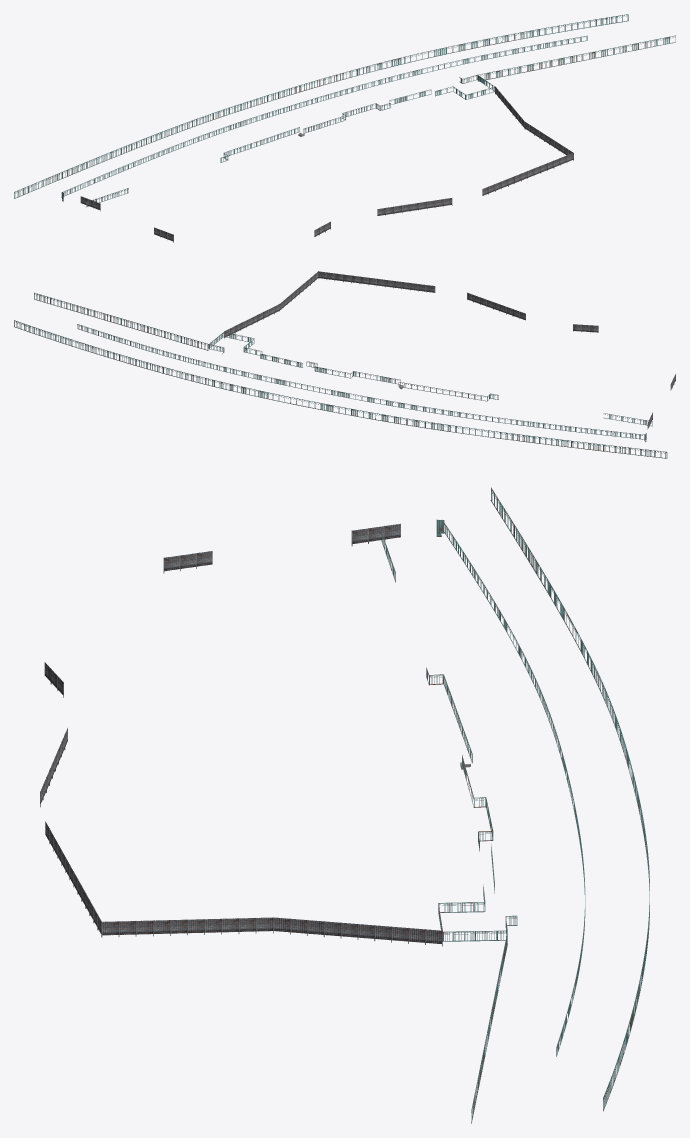
Rendered from barrierfix stairs.fbx.
3 views of the same model, one above another, from view 1: azimuth 30°, elevation 25°; view 2: azimuth 150°, elevation 25°; view 3: azimuth 270°, elevation 25° (orthographic). The views are drawn at different scales.
Visible parts, largest first — view 1: barrier; view 2: barrier; view 3: barrier.
Part boxes in pixels (x1,y1,x2,y2): barrier: (14,14,675,242); barrier: (14,271,675,458); barrier: (40,487,649,1123).
Size of the model in its own units: 33911 by 527 by 14035.
